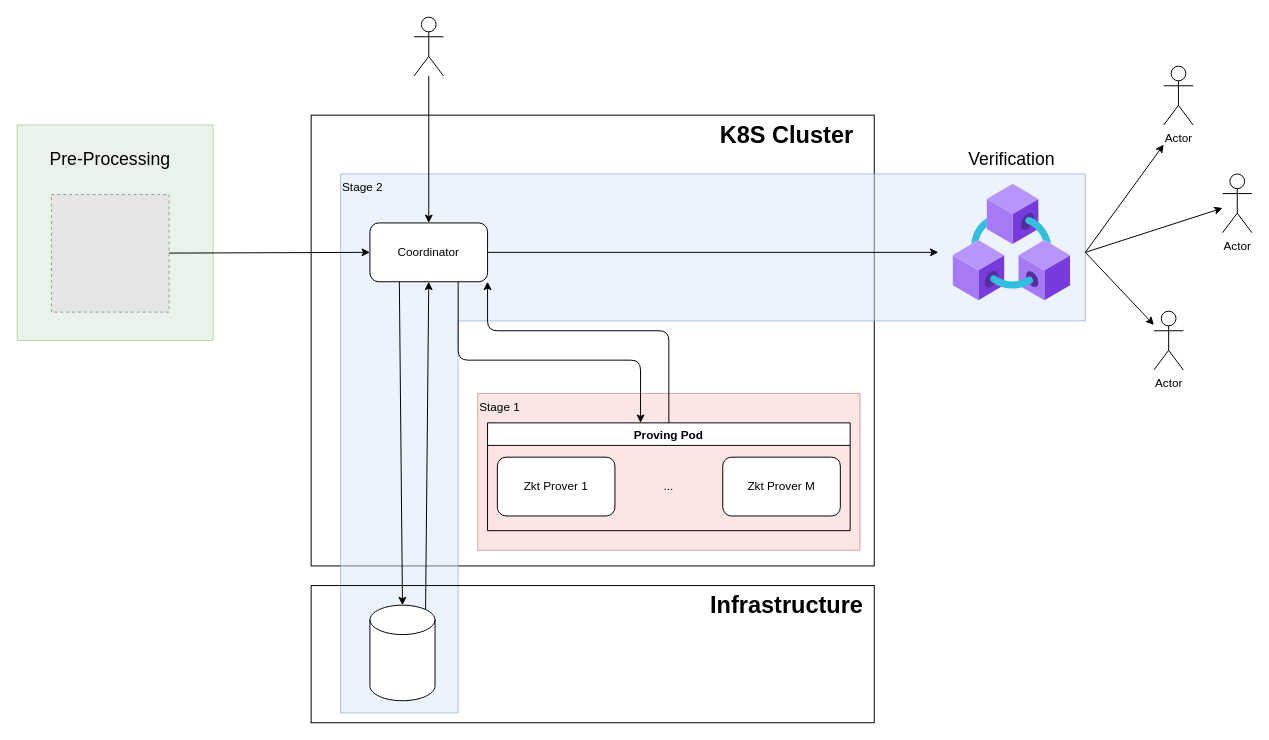
This 1269x740 diagram has some shape labels left out. Grey dashed boxes stand in for pictures. Each missing label, with the box of its shape:
Admin: (413, 16, 443, 76)
Ethereum: (953, 183, 1070, 301)
Meta DB: (369, 604, 435, 701)
Stage 3: (16, 124, 213, 341)
